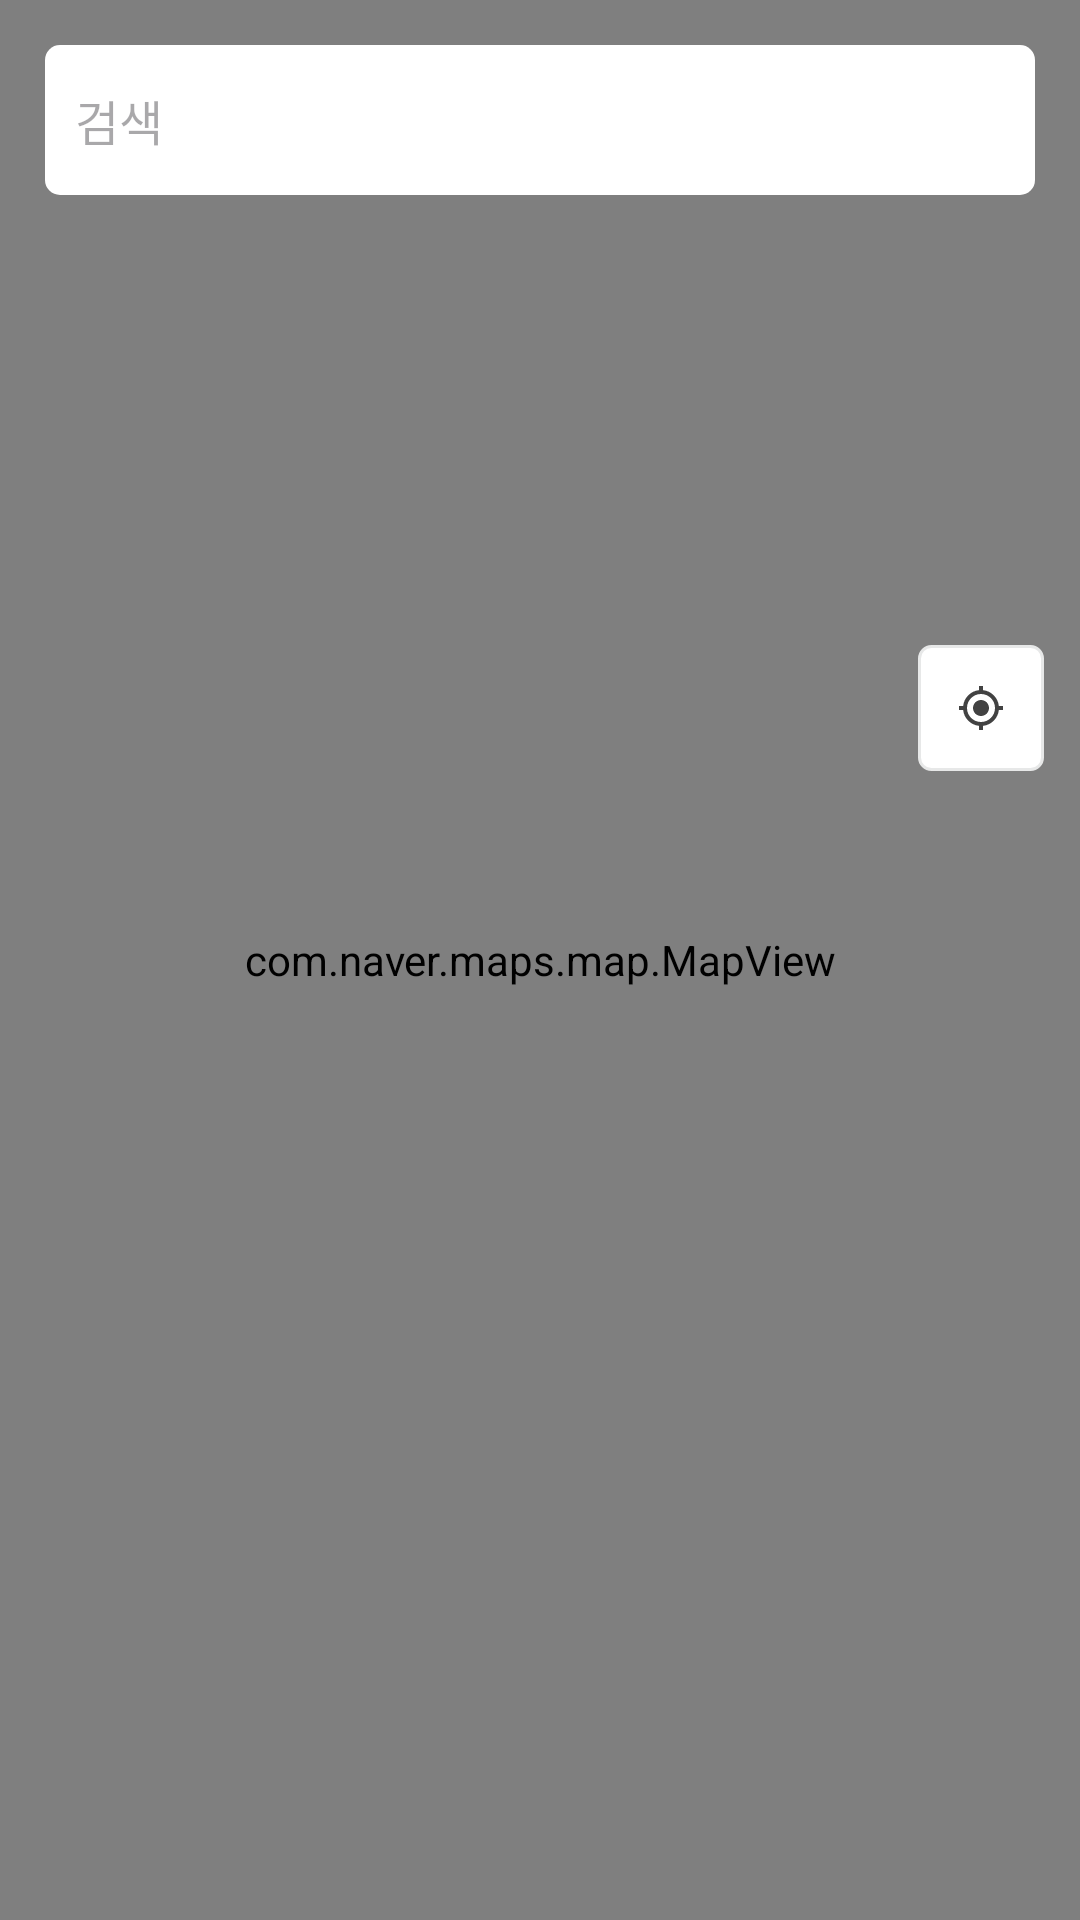

Named icons in this screenshot (1080×1920) and their centers, (x,y):
location: (981,708)
